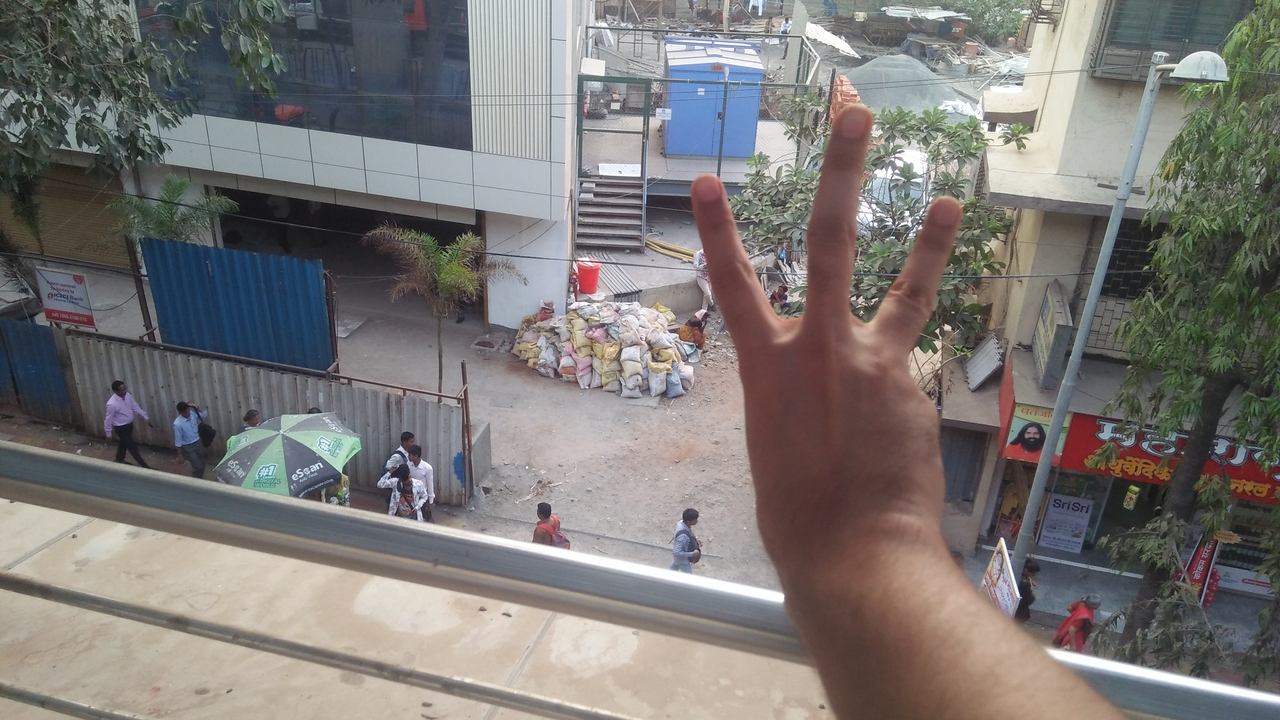fingertip: (830, 92, 882, 144), (922, 190, 970, 236), (690, 168, 730, 208)
